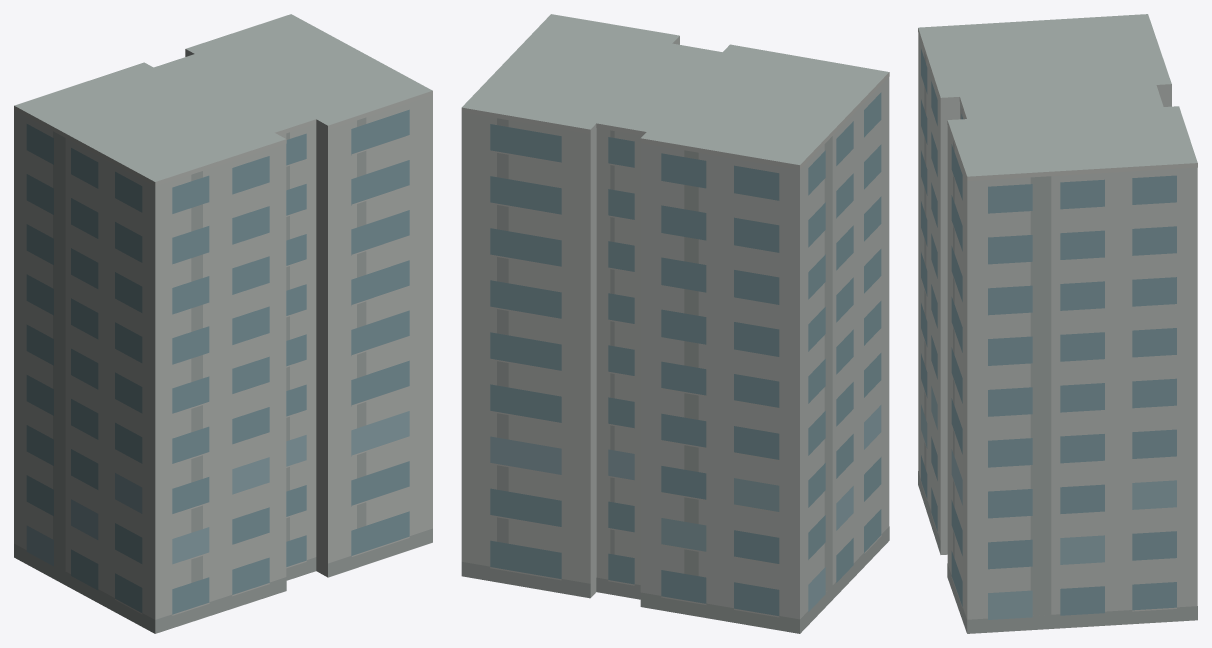
The model's file is survey-upis-32720404.glb.
The picture shows the model from 3 angles, left to right: view 1: azimuth 30°, elevation 25°; view 2: azimuth 150°, elevation 25°; view 3: azimuth 270°, elevation 25°; orthographic projection. The views are drawn at different scales.
Parts seen in each view (by area): view 1: survey-upis-32720404.tmp; view 2: survey-upis-32720404.tmp; view 3: survey-upis-32720404.tmp.
Part boxes in pixels (x1,y1,x2,y2): survey-upis-32720404.tmp: (14, 14, 432, 633); survey-upis-32720404.tmp: (461, 14, 889, 633); survey-upis-32720404.tmp: (918, 14, 1197, 633).
Bounding box in the file's own units: 18.85 × 24.7 × 13.7.
